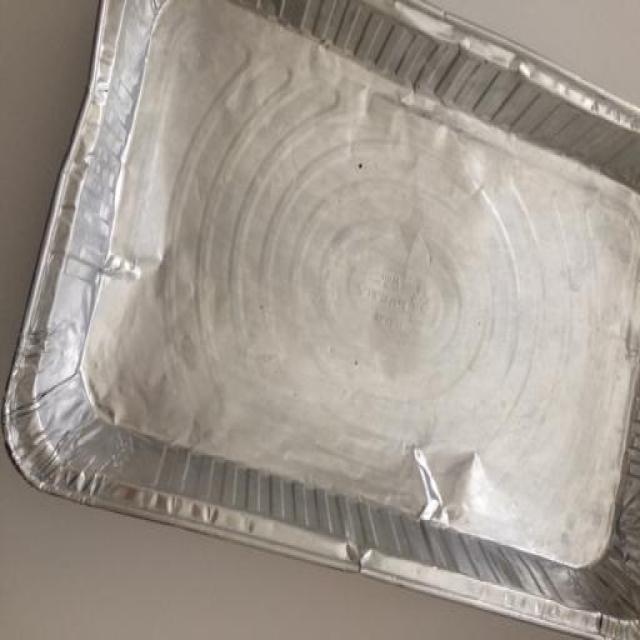Metal: (0, 0, 640, 640)
